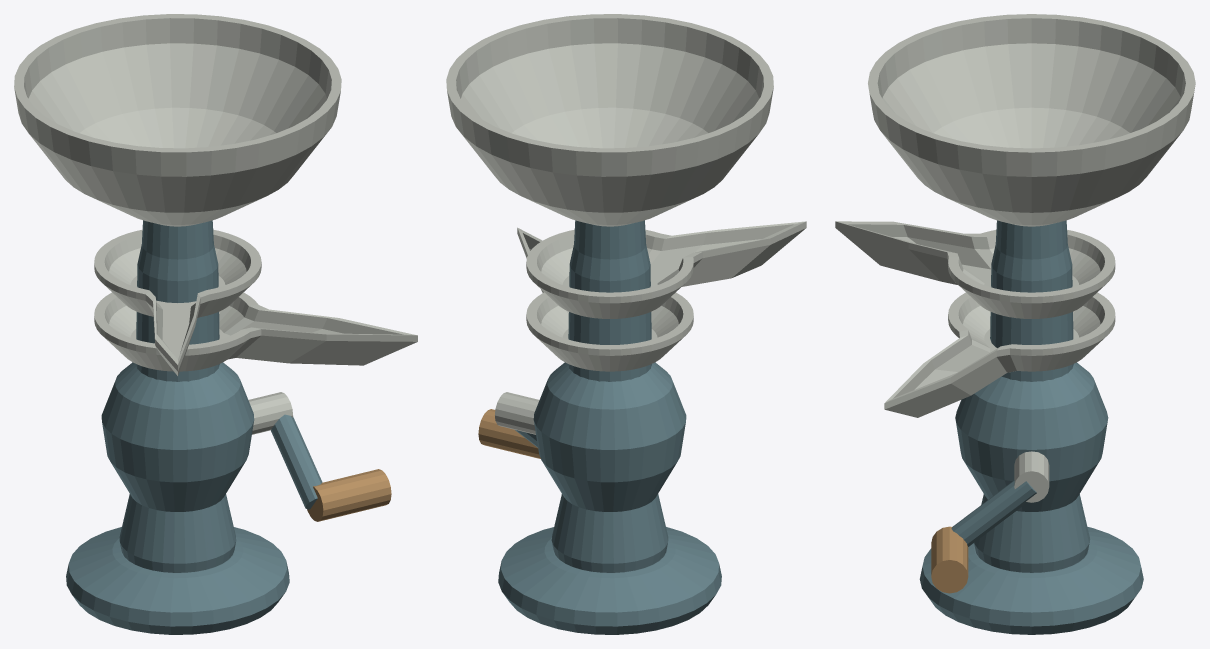
3 renders of one model, left to right at view 1: azimuth 30°, elevation 25°; view 2: azimuth 150°, elevation 25°; view 3: azimuth 270°, elevation 25°, orthographic.
Parts seen in each view (by area): view 1: WholeLargeDeepReceivingBowl, WholeWaistedPedestalGearCasting, WholeFlaredFiniteGroundFoot, WholeLowerLongOutfallCollector, WholeUpperDivergingOutfallCollector, WholeCentralCollectorSupportNeck, WholeProjectingWoodenCrankGrip, WholeOffsetCrankArm, WholeSideHandCrankSpindle; view 2: WholeLargeDeepReceivingBowl, WholeWaistedPedestalGearCasting, WholeFlaredFiniteGroundFoot, WholeUpperDivergingOutfallCollector, WholeCentralCollectorSupportNeck, WholeLowerLongOutfallCollector, WholeProjectingWoodenCrankGrip, WholeSideHandCrankSpindle; view 3: WholeLargeDeepReceivingBowl, WholeWaistedPedestalGearCasting, WholeFlaredFiniteGroundFoot, WholeUpperDivergingOutfallCollector, WholeLowerLongOutfallCollector, WholeCentralCollectorSupportNeck, WholeOffsetCrankArm, WholeProjectingWoodenCrankGrip, WholeSideHandCrankSpindle.
Part boxes in pixels (<box>): WholeLargeDeepReceivingBowl: <box>14,14,341,226</box>; WholeWaistedPedestalGearCasting: <box>101,362,254,572</box>; WholeFlaredFiniteGroundFoot: <box>66,527,289,634</box>; WholeLowerLongOutfallCollector: <box>94,292,417,371</box>; WholeUpperDivergingOutfallCollector: <box>94,229,261,375</box>; WholeCentralCollectorSupportNeck: <box>136,220,219,381</box>; WholeProjectingWoodenCrankGrip: <box>307,469,391,521</box>; WholeOffsetCrankArm: <box>270,414,322,509</box>; WholeSideHandCrankSpindle: <box>248,392,292,434</box>; WholeLargeDeepReceivingBowl: <box>446,14,773,226</box>; WholeWaistedPedestalGearCasting: <box>533,362,686,572</box>; WholeFlaredFiniteGroundFoot: <box>498,527,721,634</box>; WholeUpperDivergingOutfallCollector: <box>526,221,806,318</box>; WholeCentralCollectorSupportNeck: <box>568,220,651,381</box>; WholeLowerLongOutfallCollector: <box>517,227,693,371</box>; WholeProjectingWoodenCrankGrip: <box>478,409,540,458</box>; WholeSideHandCrankSpindle: <box>494,392,539,434</box>; WholeLargeDeepReceivingBowl: <box>868,14,1195,226</box>; WholeWaistedPedestalGearCasting: <box>955,362,1108,572</box>; WholeFlaredFiniteGroundFoot: <box>919,527,1143,634</box>; WholeUpperDivergingOutfallCollector: <box>835,221,1115,318</box>; WholeLowerLongOutfallCollector: <box>884,292,1115,417</box>; WholeCentralCollectorSupportNeck: <box>990,220,1073,381</box>; WholeOffsetCrankArm: <box>951,480,1036,546</box>; WholeProjectingWoodenCrankGrip: <box>931,526,968,593</box>; WholeSideHandCrankSpindle: <box>1014,451,1049,502</box>.
Size of the model in its own units: 0.6512 by 1.02 by 0.6596.
